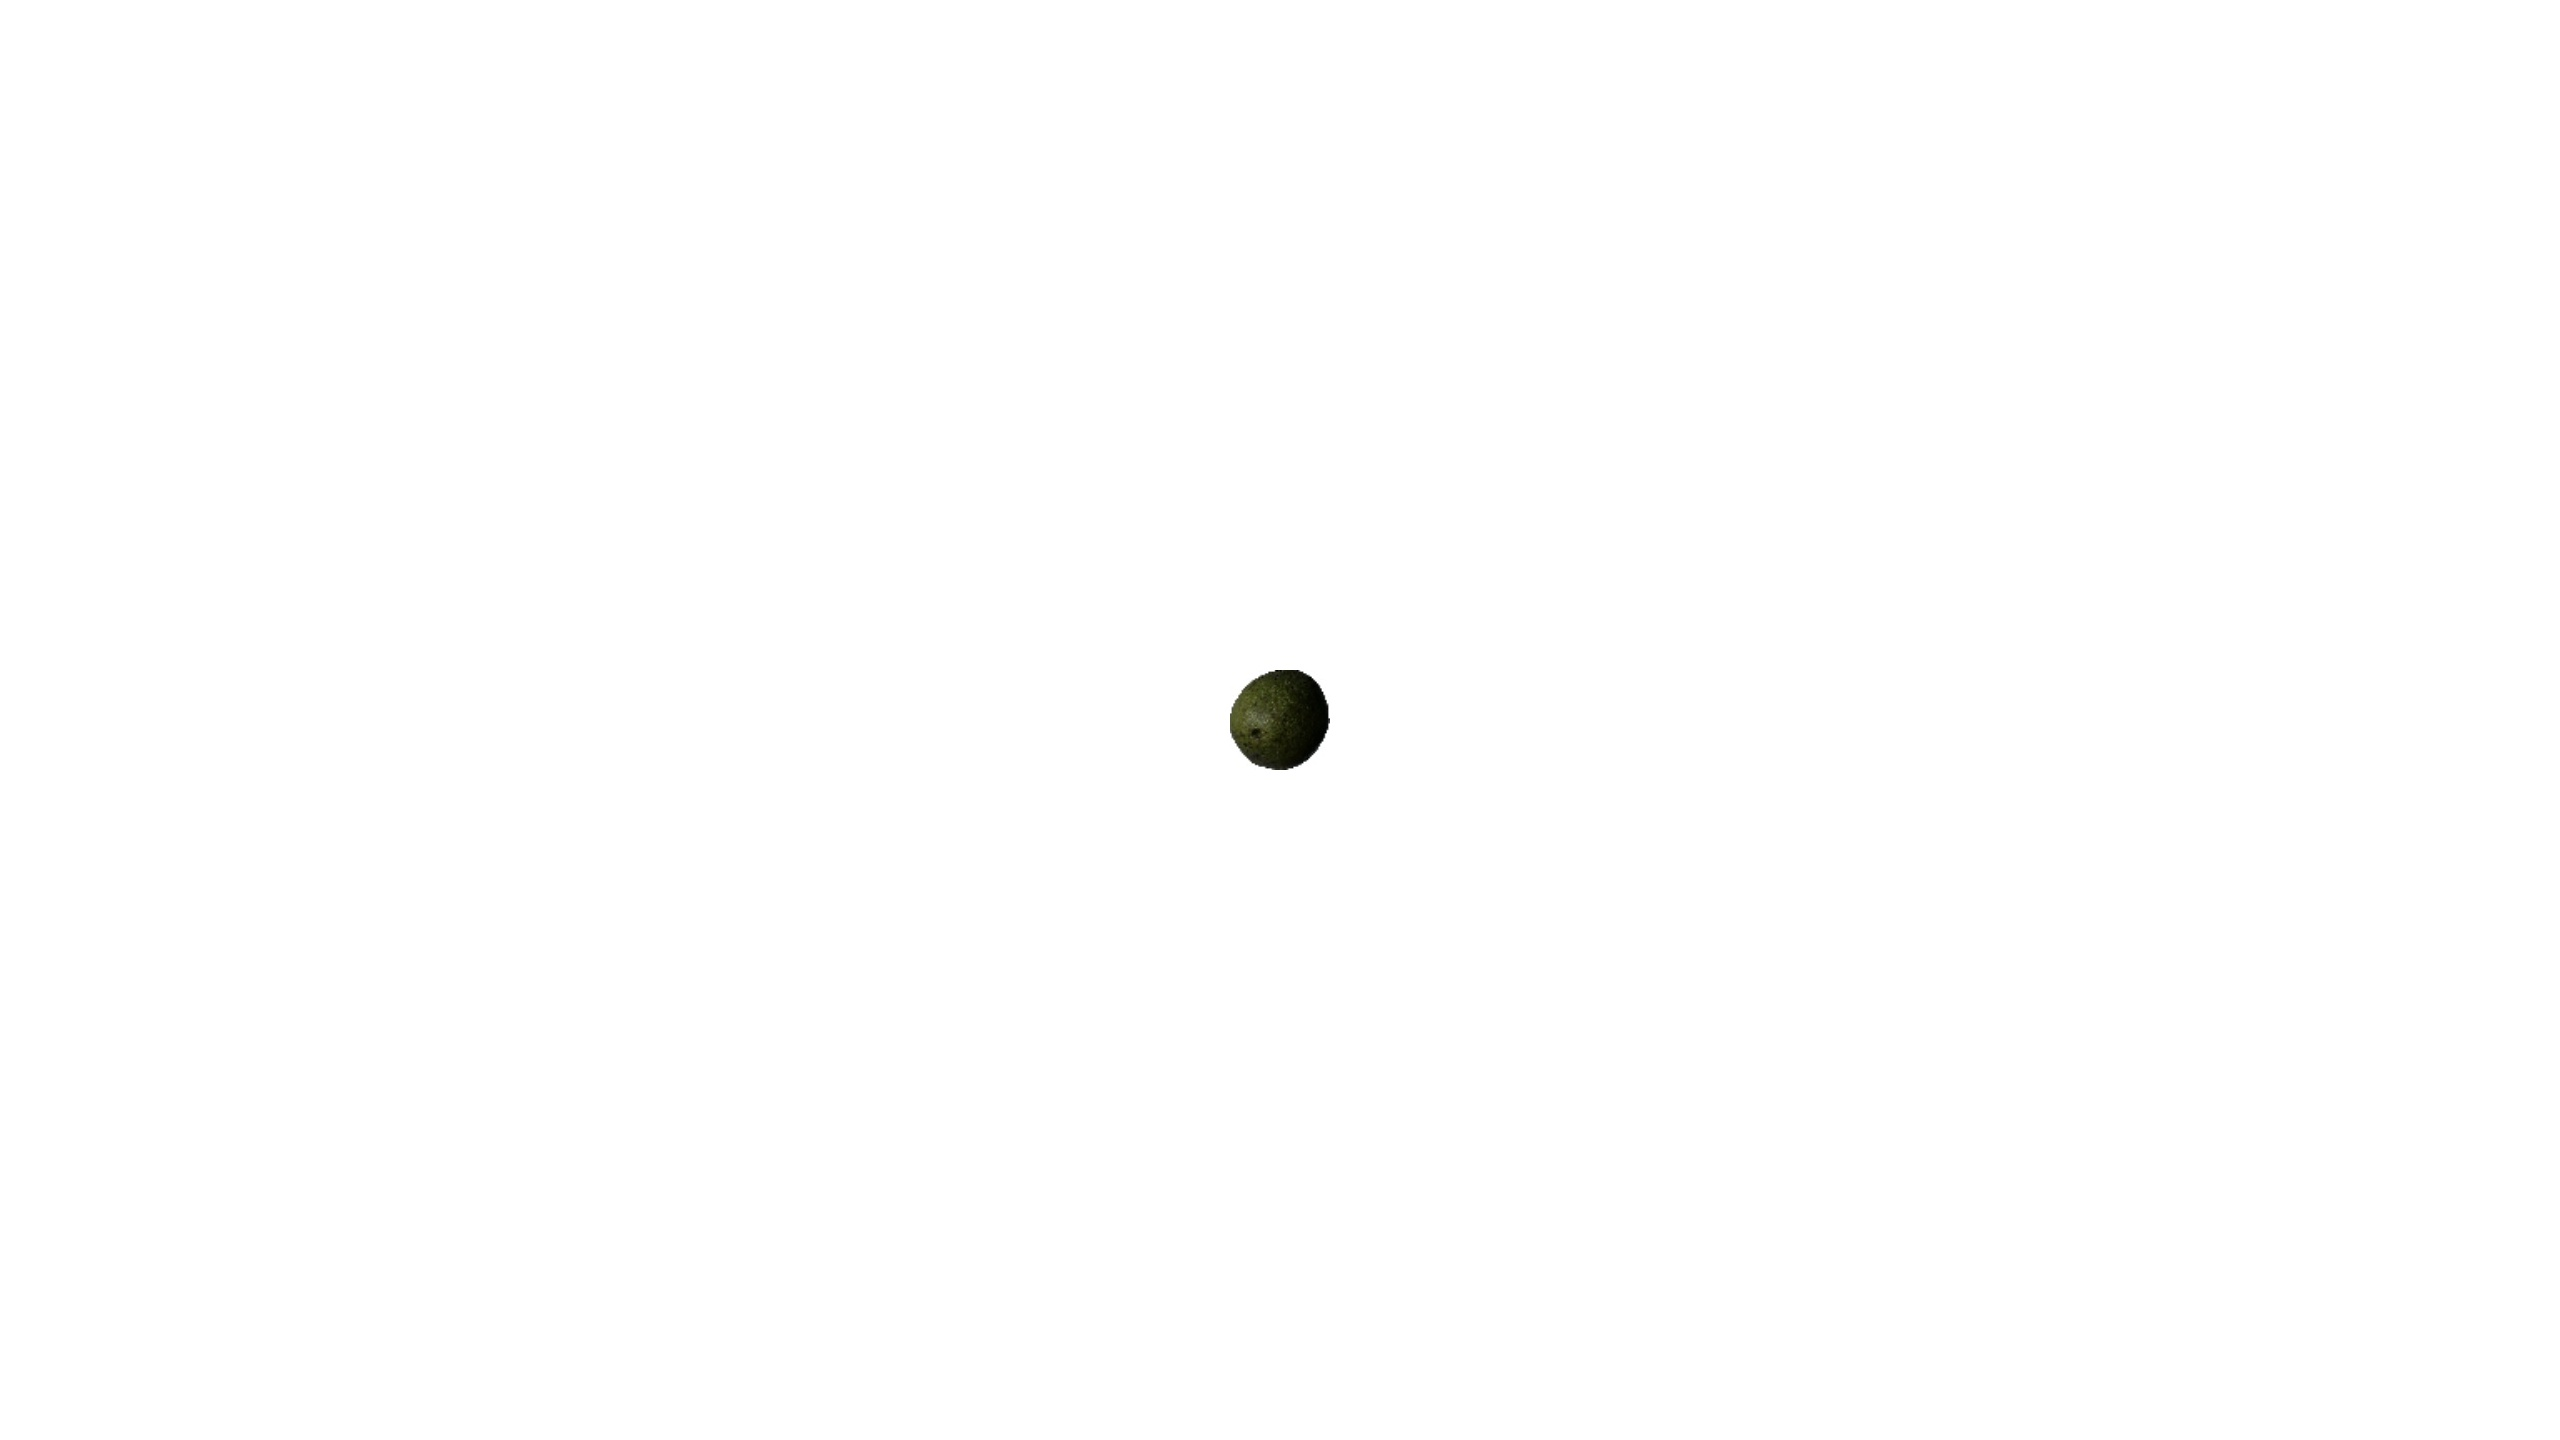abacate: (1213, 658, 1342, 774)
